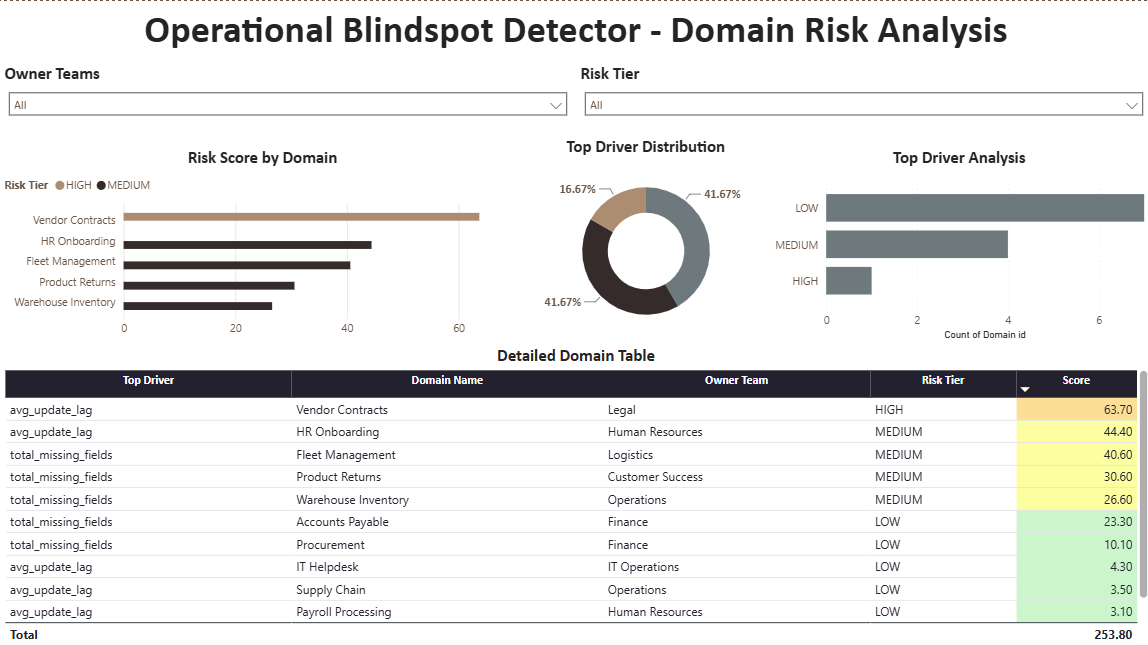

Layout of this report page (visuals, bound fields, positions):
{"tool":"powerbi","page":{"name":"Domain Risk Analysis","canvas":[1280,720],"ordinal":1},"visuals":[{"type":"textbox","box":[0,0,1280,68.3],"z":0},{"type":"slicer","title":"Owner Teams","fields":{"Values":["domains.owner_team"]},"box":[0,68.3,640,71.7],"z":1000},{"type":"slicer","title":"Risk Tier","fields":{"Values":["risk_scores.risk_tier"]},"box":[640,68.3,640,71.7],"z":2000},{"type":"clusteredBarChart","title":"Risk Score by Domain","fields":{"Category":["domains.domain_name"],"Y":["Sum(risk_scores.composite_score)"],"Series":["risk_scores.risk_tier"]},"box":[0,161.7,583.3,220],"z":3000},{"type":"donutChart","title":"Top Driver Distribution","fields":{"Category":["risk_scores.top_driver"],"Y":["CountNonNull(domains.domain_id)"]},"box":[583.3,150,268.3,231.7],"z":4000},{"type":"clusteredBarChart","title":"Top Driver Analysis","fields":{"Category":["risk_scores.risk_tier"],"Y":["CountNonNull(domains.domain_id)"]},"box":[851.7,161.7,428.3,220],"z":5000},{"type":"tableEx","title":"Detailed Domain Table","fields":{"Values":["risk_scores.top_driver","domains.domain_name","domains.owner_team","risk_scores.risk_tier","Sum(risk_scores.composite_score)"]},"box":[0,381.7,1280,338.3],"z":6000}]}

Visuals, with their boxes in screenshot pixels (x1, y1, x2, y2), scaled from the page's 1280x720 canvas onto the 1148x645 screenshot:
textbox: (0,0,1147,61)
"Owner Teams" slicer: (0,61,574,125)
"Risk Tier" slicer: (574,61,1147,125)
"Risk Score by Domain" clusteredBarChart: (0,145,523,342)
"Top Driver Distribution" donutChart: (523,134,764,342)
"Top Driver Analysis" clusteredBarChart: (764,145,1147,342)
"Detailed Domain Table" tableEx: (0,342,1147,644)
